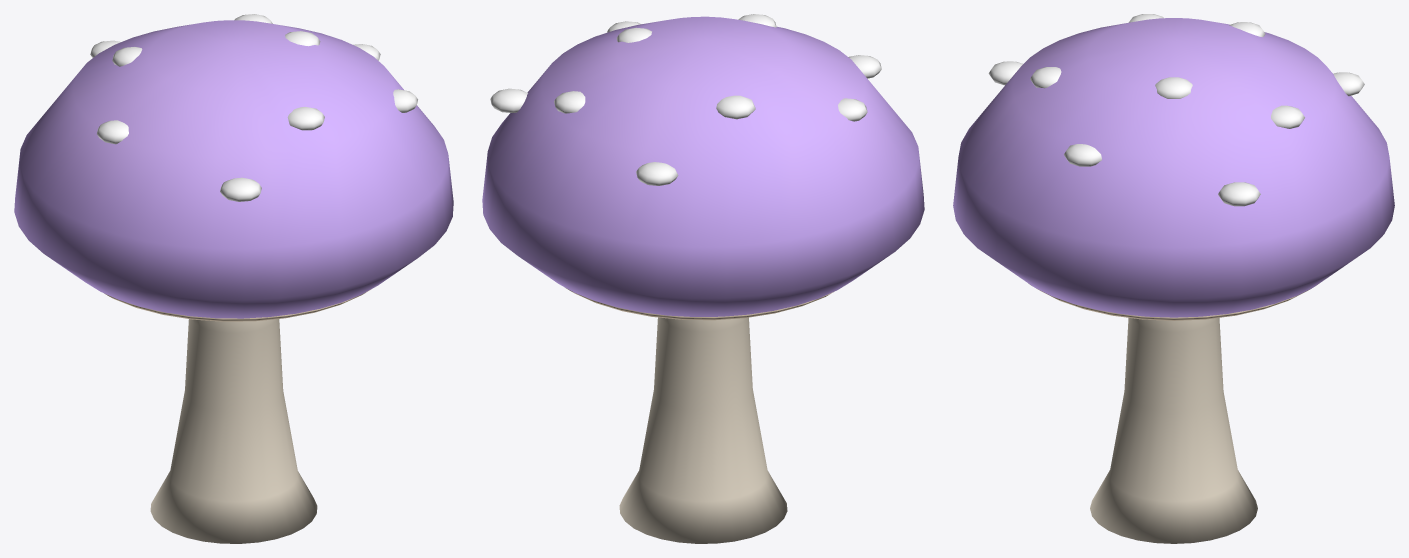
File: bg_mush_lilac.glb
The picture shows the model from 3 angles, left to right: view 1: azimuth 30°, elevation 25°; view 2: azimuth 150°, elevation 25°; view 3: azimuth 270°, elevation 25°; orthographic projection.
Visible parts, largest first — view 1: M_Mush_lilac__m_cap_lilac, M_Mush_lilac__m_stem, M_Mush_lilac__m_spot, M_Mush_lilac__m_under; view 2: M_Mush_lilac__m_cap_lilac, M_Mush_lilac__m_stem, M_Mush_lilac__m_spot, M_Mush_lilac__m_under; view 3: M_Mush_lilac__m_cap_lilac, M_Mush_lilac__m_stem, M_Mush_lilac__m_spot, M_Mush_lilac__m_under.
Part boxes in pixels (<box>): M_Mush_lilac__m_cap_lilac: <box>14,20,453,318</box>; M_Mush_lilac__m_stem: <box>150,319,317,543</box>; M_Mush_lilac__m_spot: <box>90,14,417,201</box>; M_Mush_lilac__m_under: <box>104,289,371,321</box>; M_Mush_lilac__m_cap_lilac: <box>482,16,924,316</box>; M_Mush_lilac__m_stem: <box>619,317,787,543</box>; M_Mush_lilac__m_spot: <box>490,14,881,185</box>; M_Mush_lilac__m_under: <box>566,288,834,320</box>; M_Mush_lilac__m_cap_lilac: <box>953,18,1394,317</box>; M_Mush_lilac__m_stem: <box>1090,318,1257,543</box>; M_Mush_lilac__m_spot: <box>988,14,1364,206</box>; M_Mush_lilac__m_under: <box>1028,283,1319,320</box>.
Bounding box in the file's own units: 4.1 × 4.78 × 4.1.
